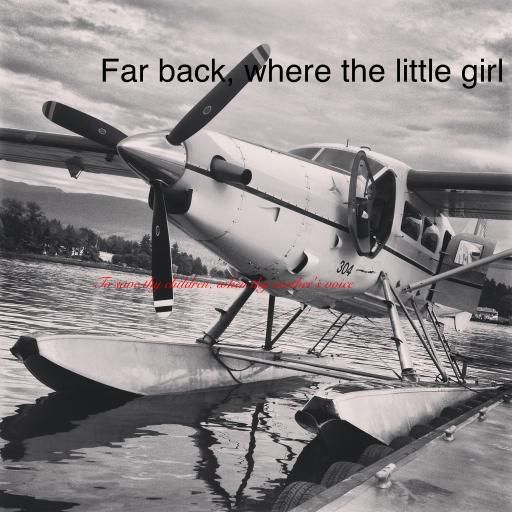Apple Chancery: (100, 58, 504, 89)
Snell Roundhand: (93, 276, 353, 293)
